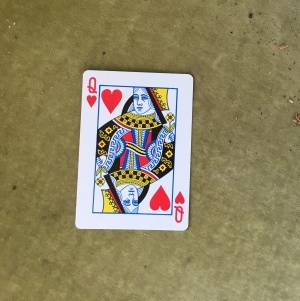card: (75, 69, 193, 232)
